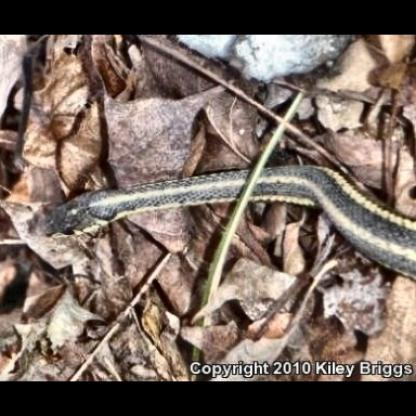Snake: (26, 164, 416, 282)
